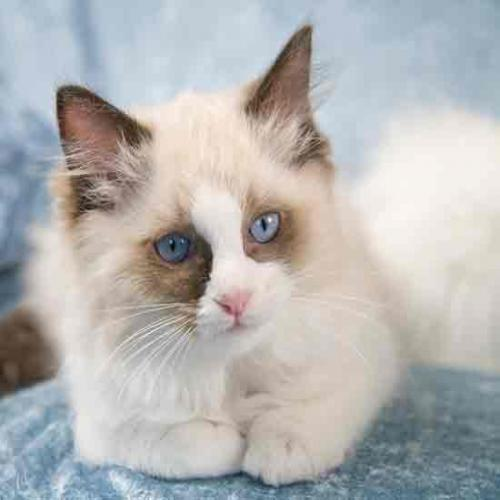ragdoll: (22, 22, 348, 365)
